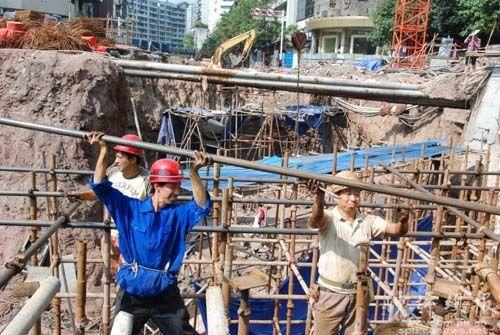helmet: (146, 158, 183, 204), (330, 166, 364, 214), (111, 132, 145, 173)
